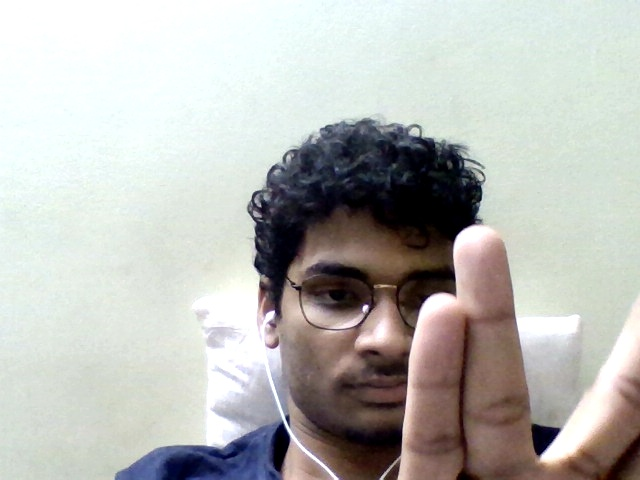LiveLong: (388, 223, 640, 480)
